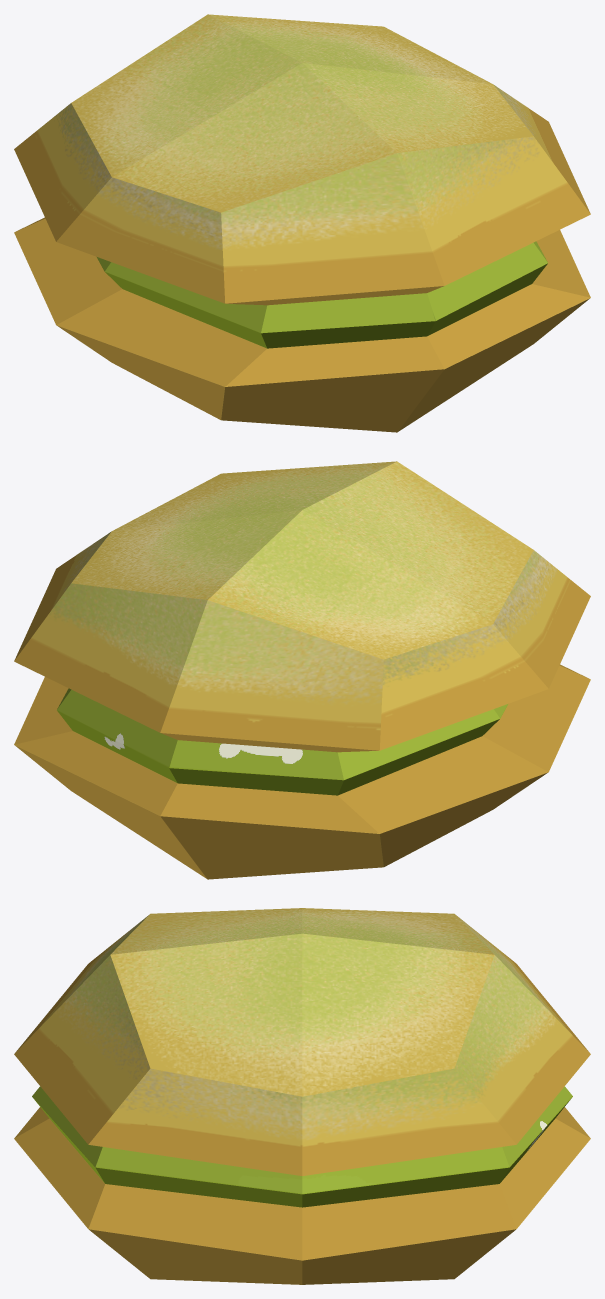
The model's file is BolaDeBerlim.fbx.
3 renders of one model, top to bottom at view 1: azimuth 30°, elevation 25°; view 2: azimuth 150°, elevation 25°; view 3: azimuth 270°, elevation 25°, orthographic.
Parts seen in each view (by area): view 1: BolaBerlim; view 2: BolaBerlim; view 3: BolaBerlim.
Boxes of the visible parts, box(x1,y1,x2,y2) form: BolaBerlim: box(14, 14, 590, 432); BolaBerlim: box(14, 461, 590, 879); BolaBerlim: box(14, 908, 590, 1284).
Bounding box in the file's own units: 11.38 × 7.09 × 11.38.
